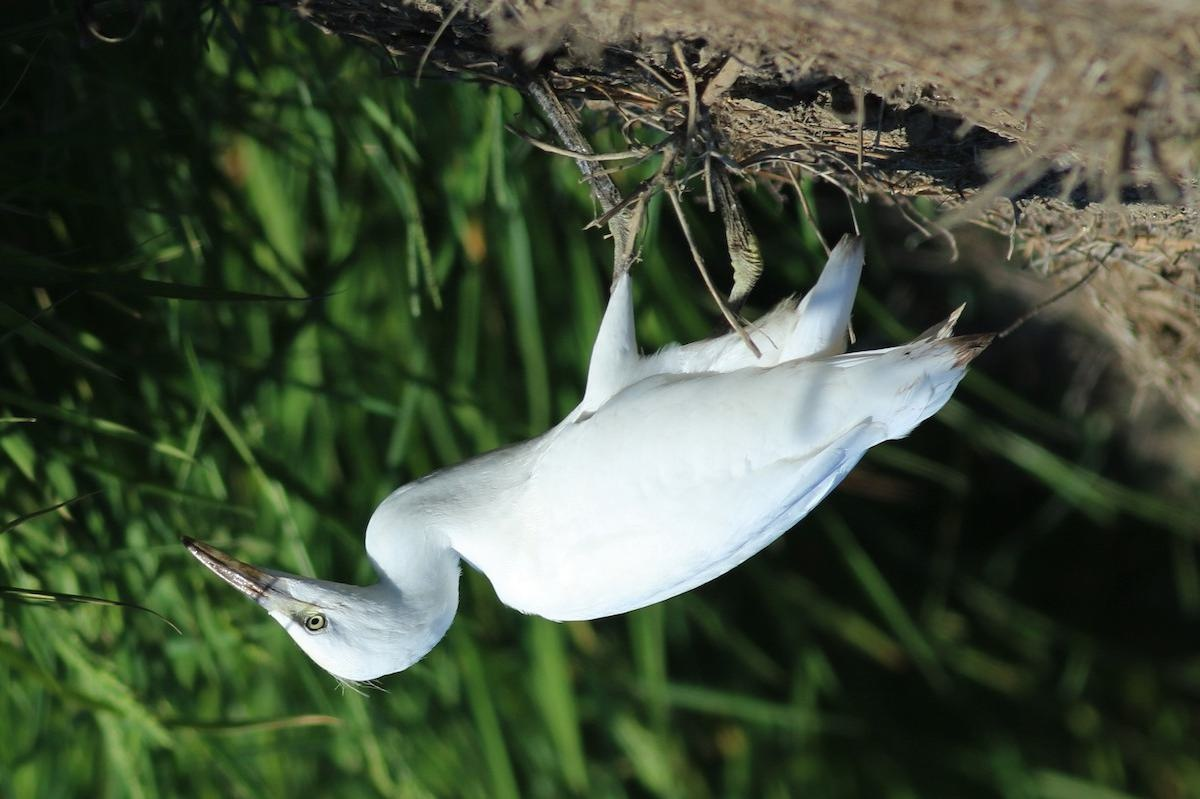egret: (179, 224, 1000, 683)
